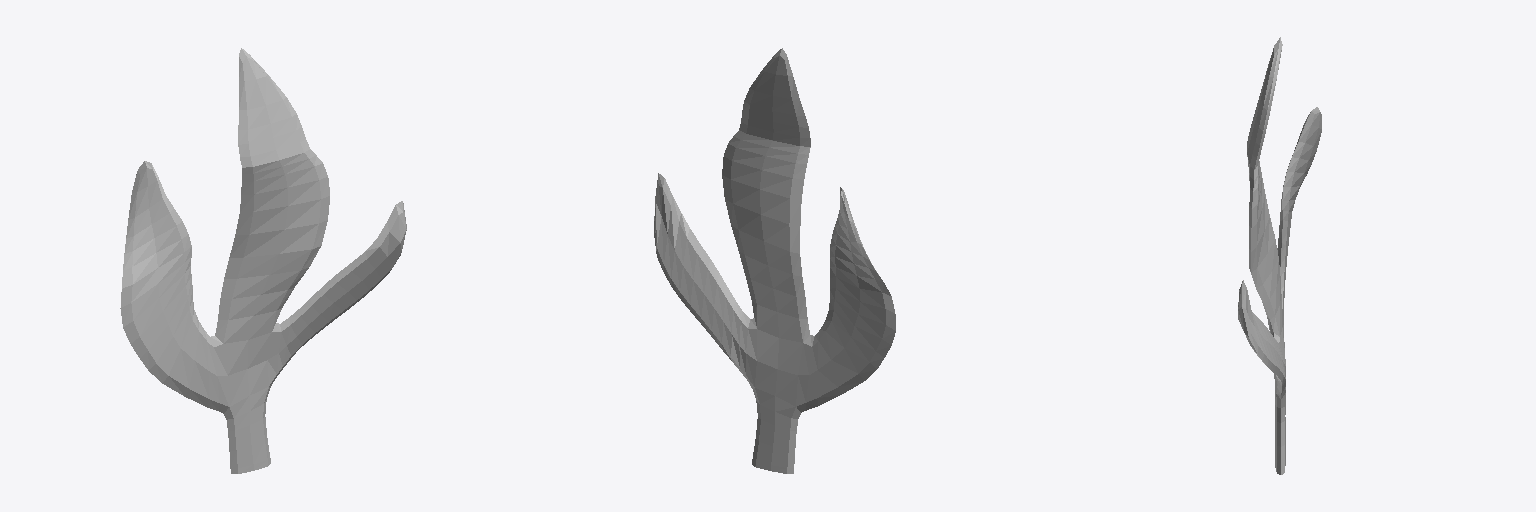
Rendered from KelpObstacle.obj.
3 views of the same model, side by side, from view 1: azimuth 30°, elevation 25°; view 2: azimuth 150°, elevation 25°; view 3: azimuth 270°, elevation 25° (orthographic).
Visible parts, largest first — view 1: polySurface7; view 2: polySurface7; view 3: polySurface7.
Part boxes in pixels (x1,y1,x2,y2): polySurface7: (120,48,406,473); polySurface7: (654,48,895,473); polySurface7: (1238,37,1321,474).
Bounding box in the file's own units: 5.84 × 8.99 × 1.63.